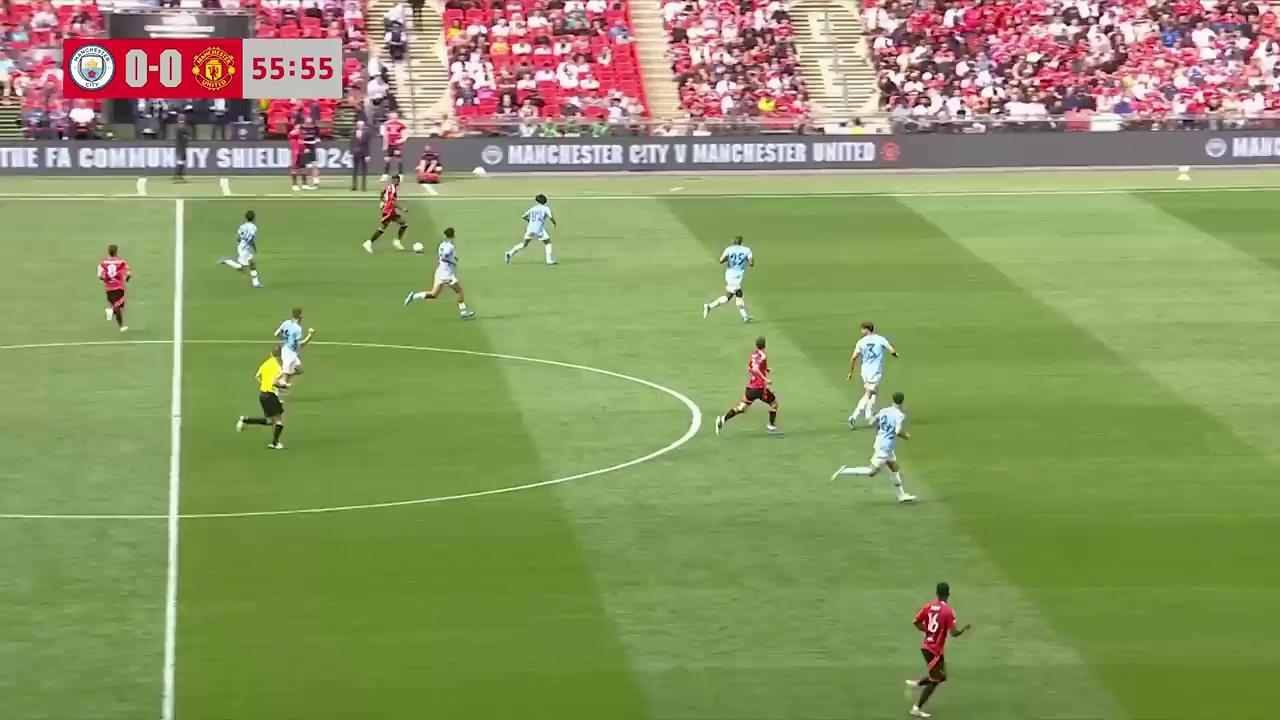ball: (412, 239, 424, 254)
player: (904, 582, 968, 716), (835, 393, 912, 502), (719, 336, 780, 433), (846, 322, 898, 428), (416, 226, 472, 317), (702, 235, 753, 322), (505, 193, 557, 267), (364, 176, 407, 253), (97, 243, 131, 332), (272, 308, 309, 385), (234, 210, 260, 287)
referee: (246, 349, 289, 449)
